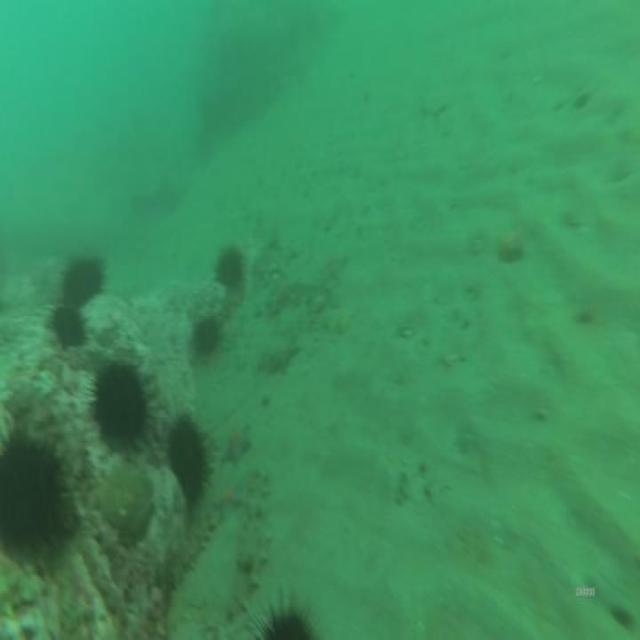echinus: (0, 441, 59, 555), (94, 368, 144, 439), (167, 420, 206, 498), (48, 306, 86, 348), (60, 264, 100, 303), (215, 250, 242, 286), (192, 316, 216, 356)
holothurian: (243, 472, 270, 598), (167, 518, 217, 586)
starfish: (223, 425, 251, 465), (214, 474, 240, 515), (271, 338, 301, 373)
